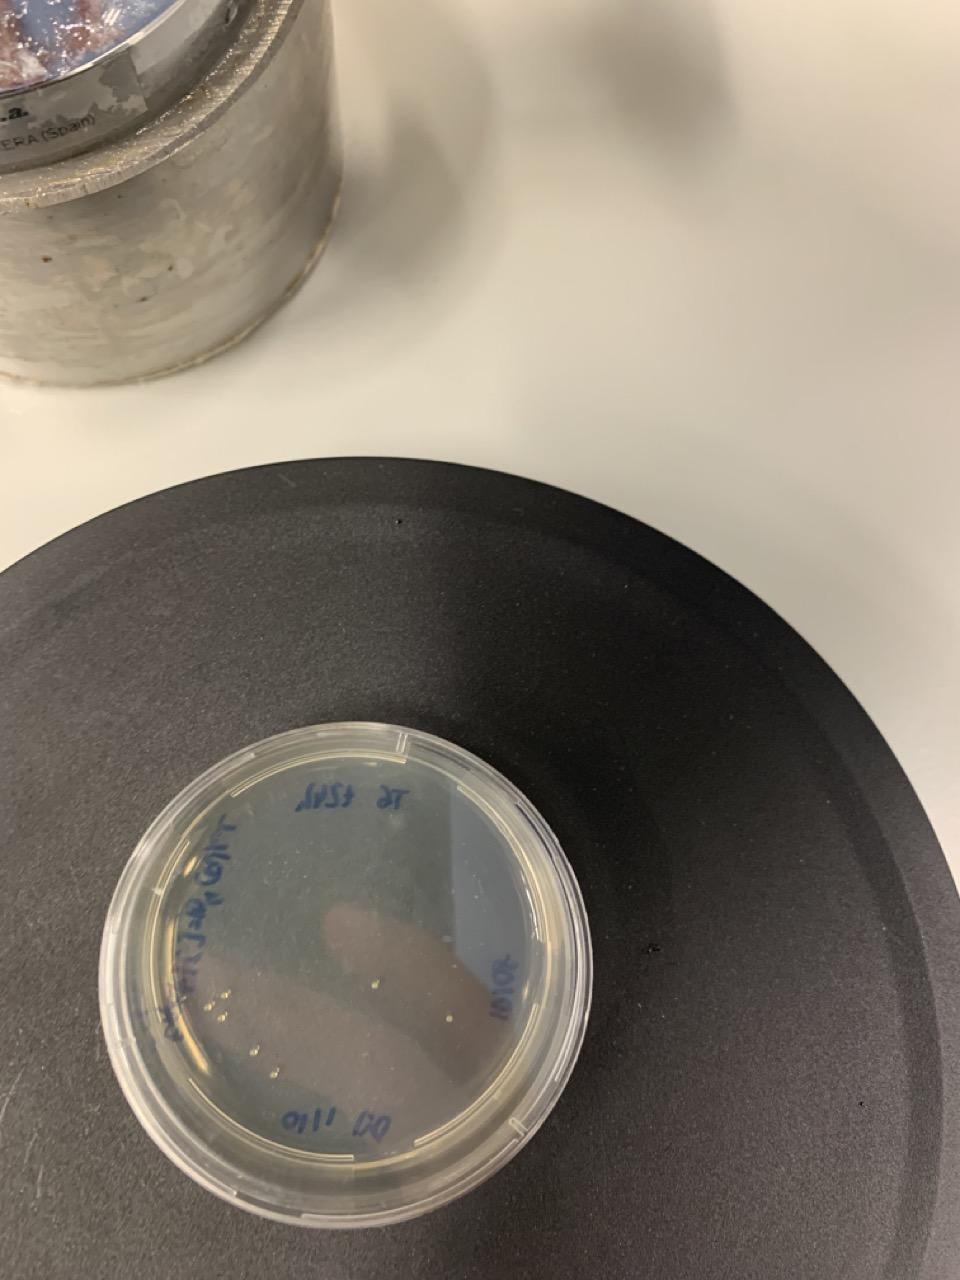colony: (220, 990, 229, 1001), (249, 1046, 258, 1057), (204, 1002, 213, 1012), (217, 1013, 226, 1023), (268, 1070, 278, 1079), (370, 981, 379, 990), (446, 1014, 454, 1023)
